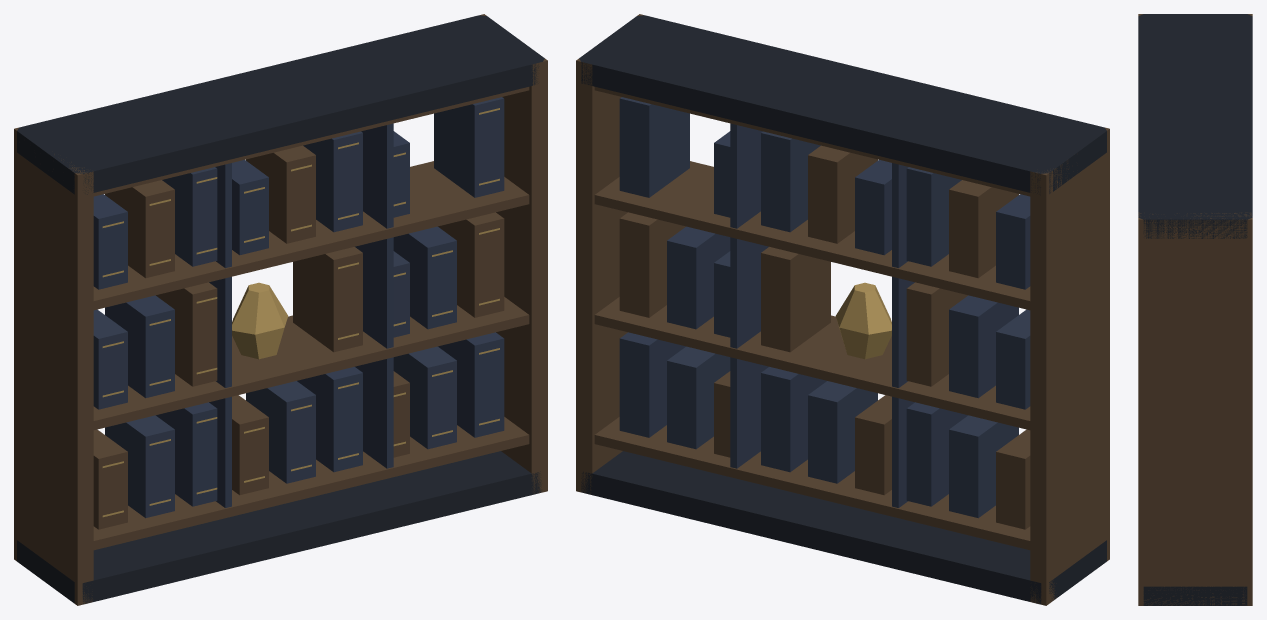
The model's file is res_bookshelf_wall.glb.
3 renders of one model, left to right at view 1: azimuth 30°, elevation 25°; view 2: azimuth 150°, elevation 25°; view 3: azimuth 270°, elevation 25°, orthographic. The views are drawn at different scales.
Visible parts, largest first — view 1: book_binding, cabinet_cap, book_binding.002, book_binding.001, library_artifact; view 2: book_binding, cabinet_cap, book_binding.002, book_binding.001, library_artifact; view 3: book_binding, cabinet_cap.
Boxes of the visible parts, x1,y1,x2,y2 form: book_binding: [14, 14, 547, 605]; cabinet_cap: [17, 15, 544, 604]; book_binding.002: [93, 123, 504, 507]; book_binding.001: [93, 97, 504, 518]; library_artifact: [102, 108, 499, 517]; book_binding: [576, 14, 1109, 605]; cabinet_cap: [579, 15, 1106, 604]; book_binding.002: [619, 123, 1030, 507]; book_binding.001: [619, 97, 1030, 518]; library_artifact: [835, 282, 891, 359]; book_binding: [1138, 14, 1252, 605]; cabinet_cap: [1138, 14, 1252, 605].
Size of the model in its own units: 3.2 by 2.8 by 0.75.
